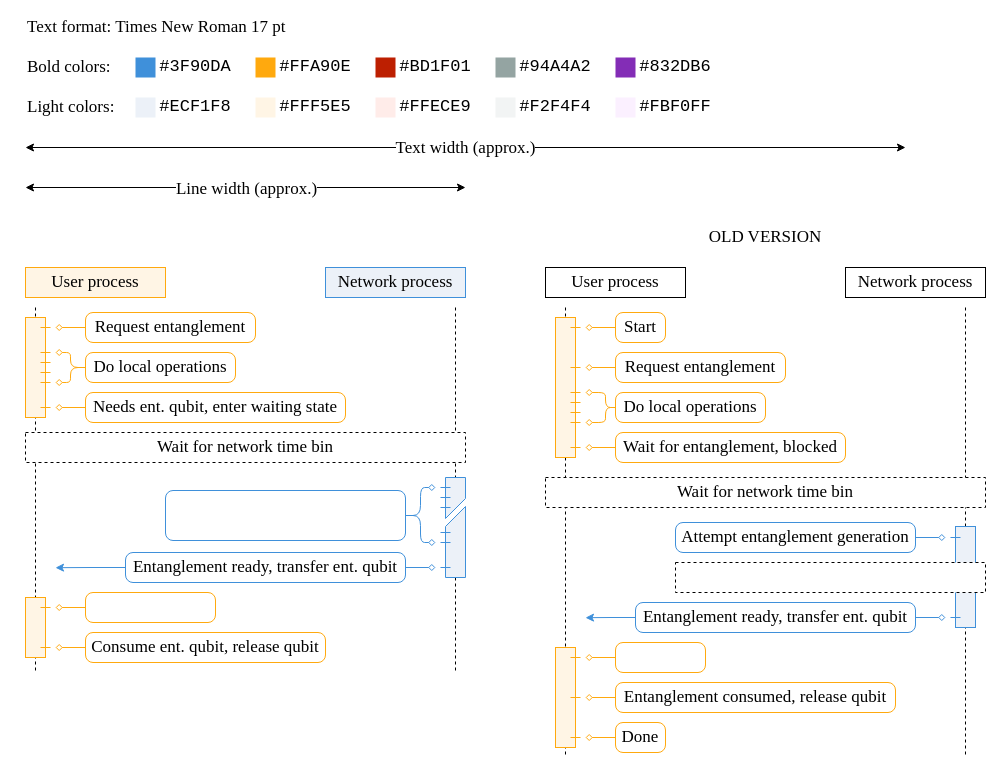
Some shapes in this 1003 by 776 pixel diagram are drawn without their labels. Here are the shapes that lost their labels. From the top down, the centre of each, then its label:
At (285,515): "Attempt entanglement generation (until QDevice returns ent. qubit)".
At (830,577): "Loop until hardware returns ent. qubit".
At (150,607): "Exit waiting state".
At (660,657): "Unblocked".
